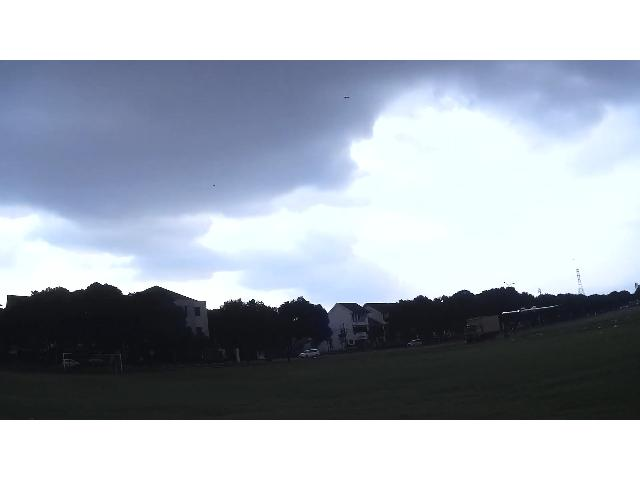Anti-Drone: (502, 304, 562, 316)
